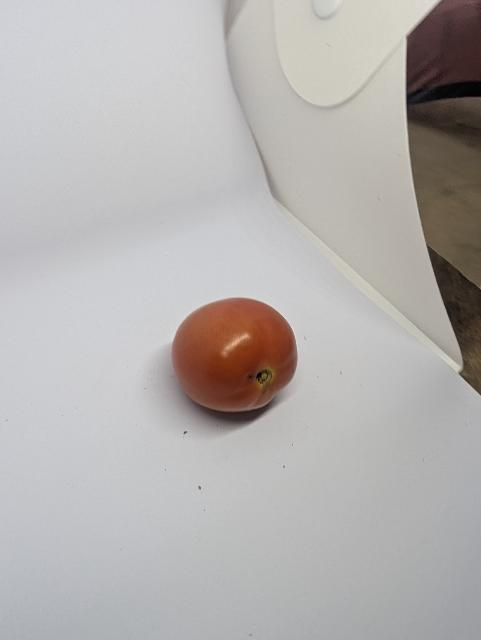red: (164, 292, 310, 428)
